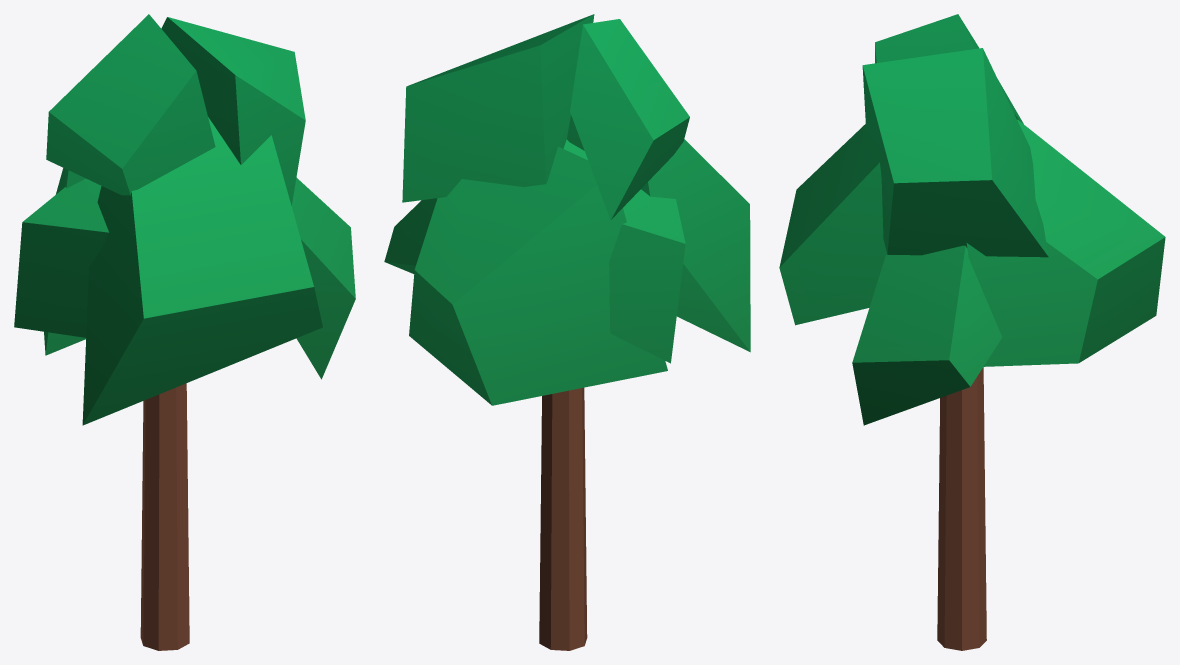
File: Tree_41_gradient_green_vc.fbx
3 views of the same model, side by side, from view 1: azimuth 30°, elevation 25°; view 2: azimuth 150°, elevation 25°; view 3: azimuth 270°, elevation 25° (orthographic). The views are drawn at different scales.
Parts seen in each view (by area): view 1: Tree_41_gradient_green_vc; view 2: Tree_41_gradient_green_vc; view 3: Tree_41_gradient_green_vc.
Part boxes in pixels (left/top/right/bottom): Tree_41_gradient_green_vc: left=14, top=14, right=355, bottom=650; Tree_41_gradient_green_vc: left=384, top=14, right=750, bottom=650; Tree_41_gradient_green_vc: left=779, top=14, right=1165, bottom=650.
Size of the model in its own units: 120 by 229 by 130.
